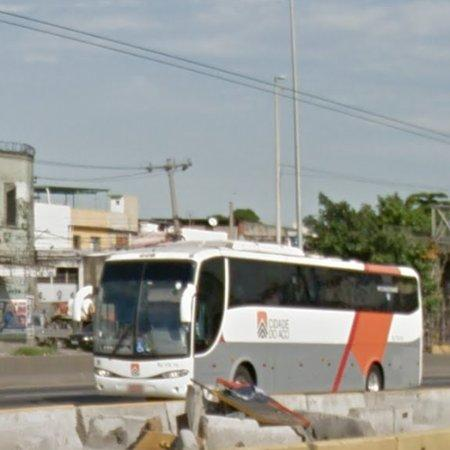buses: (94, 241, 424, 398)
